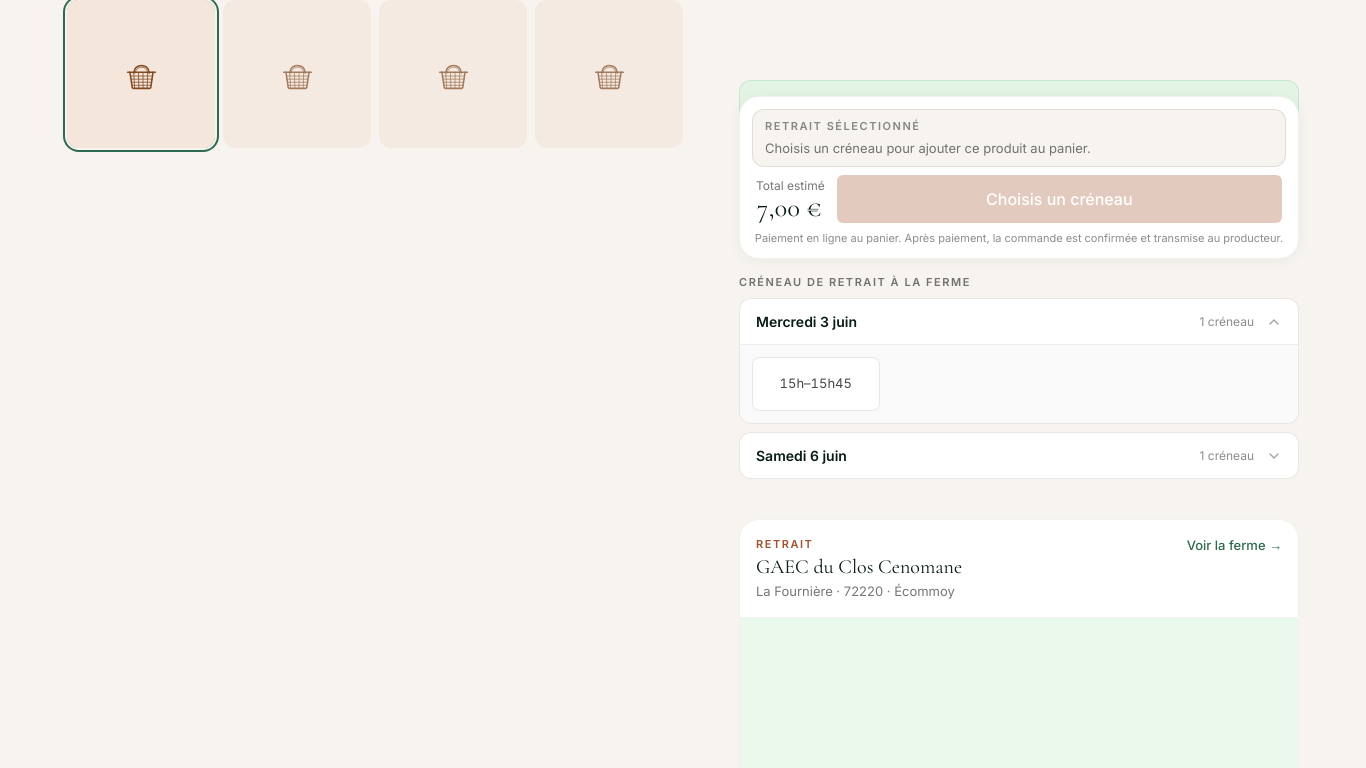
Test: ProductPageClient — conversion fiche produit › affiche le résumé du retrait sélectionné juste avant le CTA
The image size is (1366, 768).
(page scrolled)
Click the button named "Créneau 15h–15h45". click: (816, 384)
box: x1=752 y1=357 x2=880 y2=411
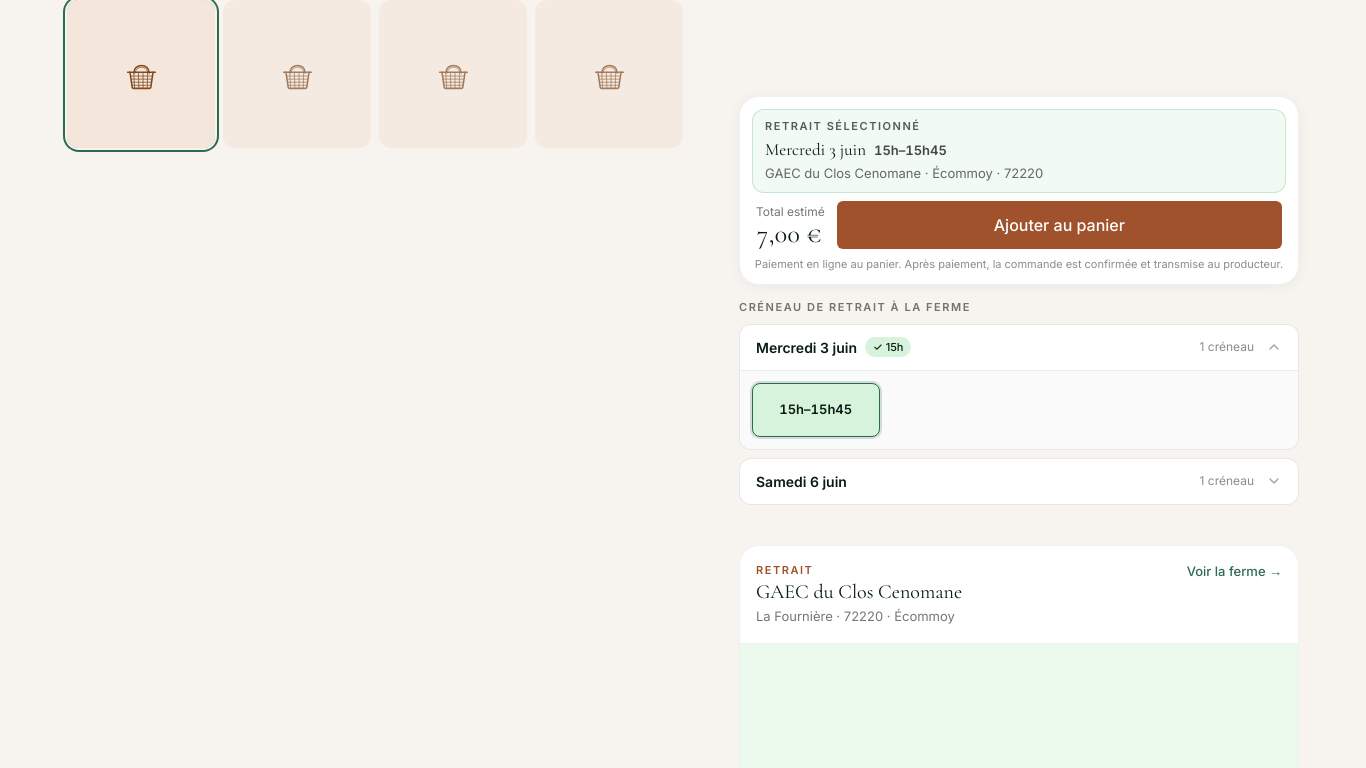
expect the text "Mercredi 3 juin" below "Retrait sélectionné" is shown: met, box x1=765 y1=138 x2=866 y2=160
expect the text "15h–15h45" below "Retrait sélectionné" is shown: met, box x1=874 y1=142 x2=947 y2=158
expect the button "Ajouter au panier" is enabled: met, box x1=837 y1=200 x2=1282 y2=248
